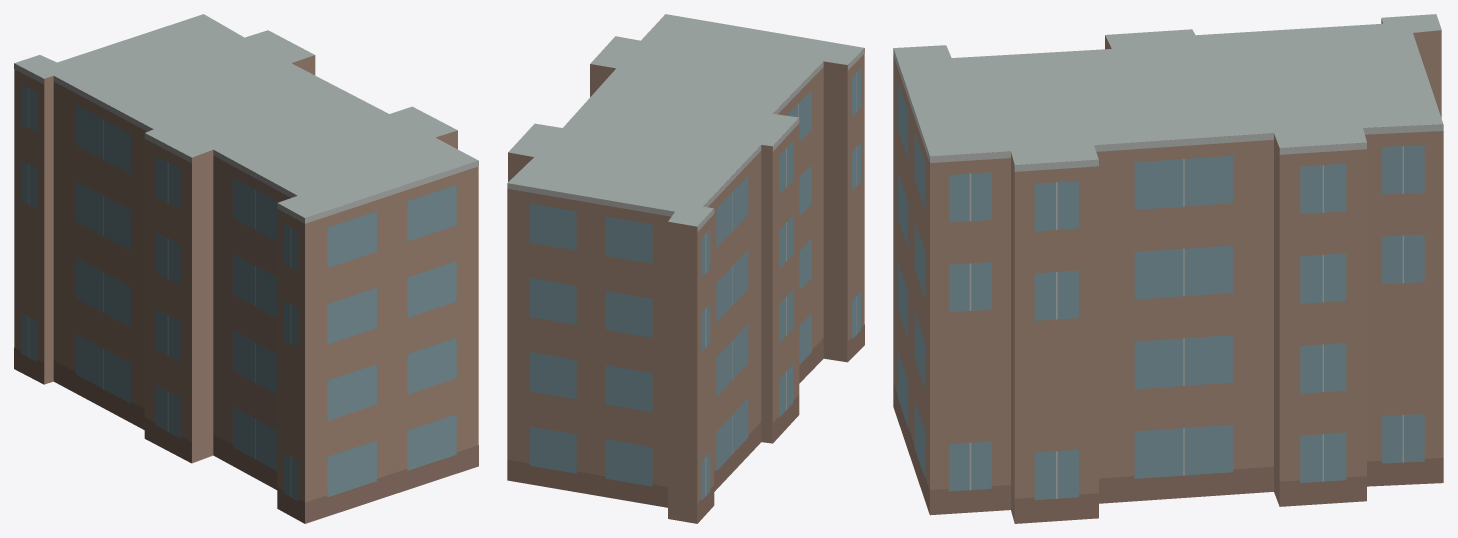
The model's file is survey-upis-32708392.glb.
3 views of the same model, side by side, from view 1: azimuth 30°, elevation 25°; view 2: azimuth 150°, elevation 25°; view 3: azimuth 270°, elevation 25° (orthographic). The views are drawn at different scales.
Visible parts, largest first — view 1: survey-upis-32708392.tmp; view 2: survey-upis-32708392.tmp; view 3: survey-upis-32708392.tmp.
Part boxes in pixels (x1=…): survey-upis-32708392.tmp: x1=14, y1=14, x2=478, y2=523; survey-upis-32708392.tmp: x1=507, y1=14, x2=864, y2=523; survey-upis-32708392.tmp: x1=893, y1=14, x2=1443, y2=523.
Bounding box in the file's own units: 11.76 × 13 × 18.08.
